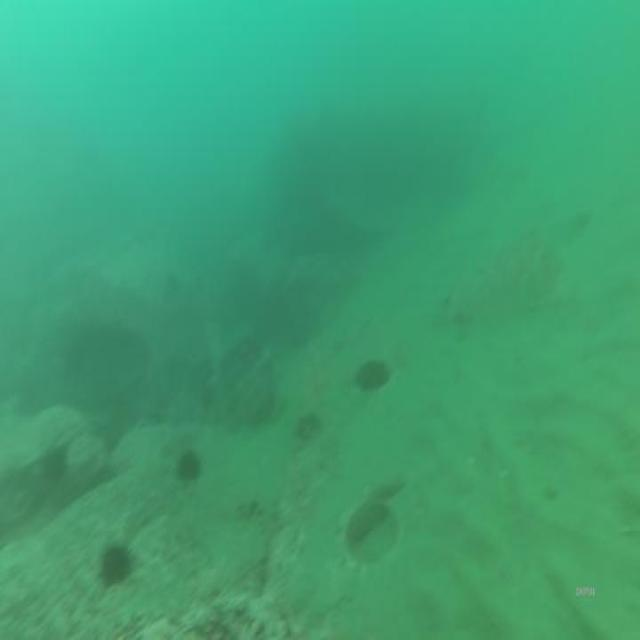echinus: (98, 539, 133, 589), (172, 444, 204, 488)
